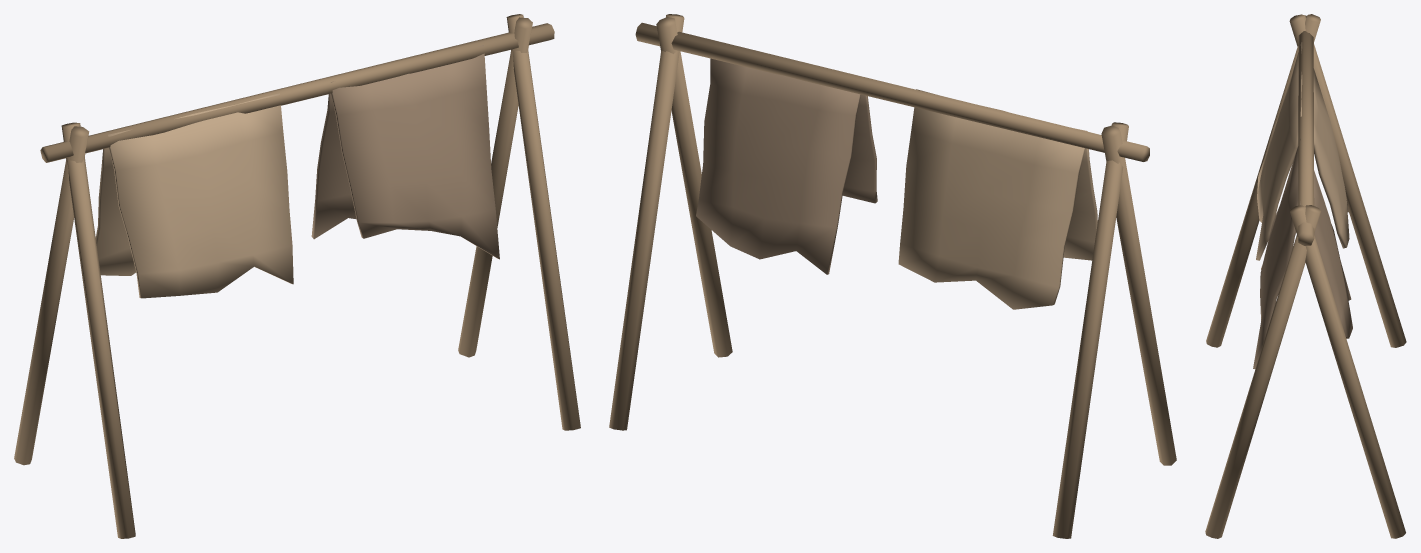
File: camp_rack.glb
3 renders of one model, left to right at view 1: azimuth 30°, elevation 25°; view 2: azimuth 150°, elevation 25°; view 3: azimuth 270°, elevation 25°, orthographic. The views are drawn at different scales.
Parts seen in each view (by area): view 1: hang, hang.002, bar, a1, a1.001, a2, a2.001, hang.003, hang.001; view 2: hang.001, hang.003, bar, a2.001, a2, a1, a1.001, hang.002, hang; view 3: a1.001, a2.001, a2, hang, hang.002, a1, bar, hang.001, hang.003.
Part boxes in pixels (box(x1,y1,x2,y2)): hang: box(108, 93, 293, 298); hang.002: box(331, 45, 499, 259); bar: box(40, 23, 554, 162); a1: box(61, 122, 135, 538); a1.001: box(506, 14, 580, 430); a2: box(14, 126, 89, 465); a2.001: box(458, 17, 532, 357); hang.003: box(311, 93, 356, 239); hang.001: box(95, 148, 136, 275); hang.001: box(898, 107, 1085, 309); hang.003: box(696, 58, 860, 274); bar: box(635, 22, 1149, 161); a2.001: box(609, 14, 684, 430); a2: box(1052, 122, 1128, 538); a1: box(1101, 125, 1176, 465); a1.001: box(656, 17, 732, 357); hang.002: box(842, 94, 877, 203); hang: box(916, 89, 1097, 260); a1.001: box(1205, 205, 1320, 538); a2.001: box(1290, 205, 1405, 538); a2: box(1289, 14, 1406, 347); hang: box(1256, 42, 1302, 260); hang.002: box(1253, 139, 1300, 368); a1: box(1206, 14, 1320, 347); bar: box(1298, 15, 1314, 245); hang.001: box(1313, 68, 1349, 248); hang.003: box(1314, 170, 1352, 338).
Size of the model in its own units: 2.5 by 1.77 by 0.9797.
